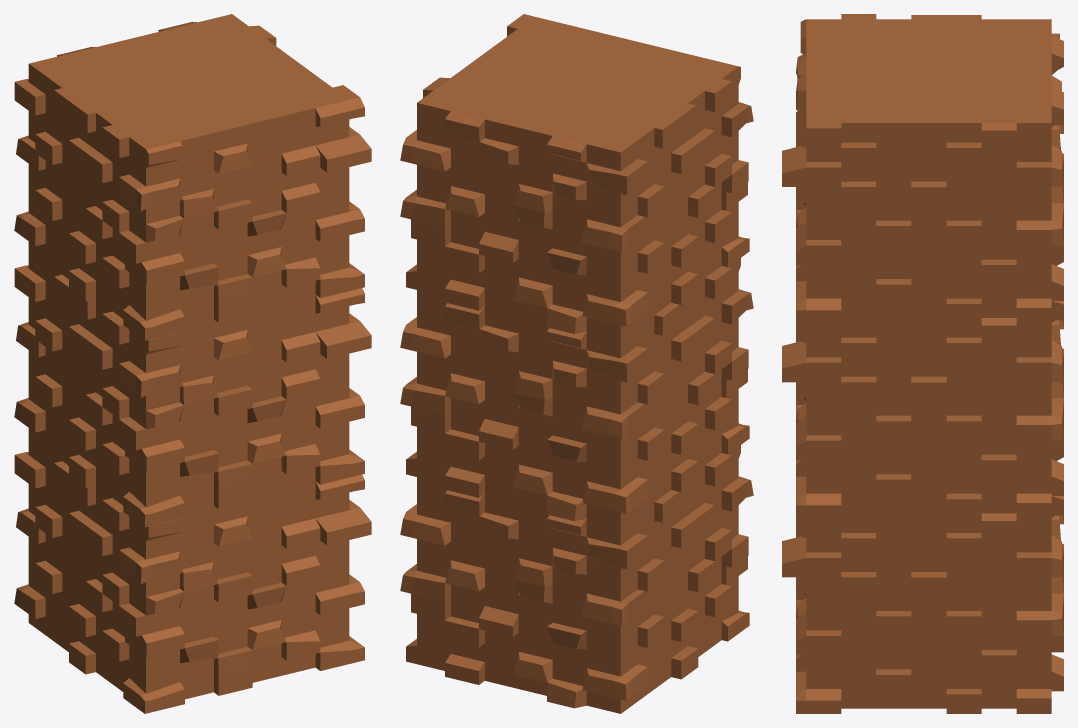
File: Stone_Bricks_.fbx
The picture shows the model from 3 angles, left to right: view 1: azimuth 30°, elevation 25°; view 2: azimuth 150°, elevation 25°; view 3: azimuth 270°, elevation 25°; orthographic projection. The views are drawn at different scales.
Parts seen in each view (by area): view 1: Stone; view 2: Stone; view 3: Stone.
Boxes of the visible parts, bbox=[...] form: Stone: bbox=[14, 14, 371, 713]; Stone: bbox=[400, 14, 753, 713]; Stone: bbox=[782, 14, 1063, 713].
Bounding box in the file's own units: 221 × 526 × 230.
